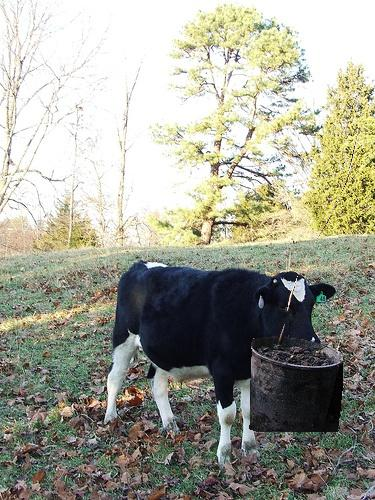tampered: (250, 83, 361, 432)
